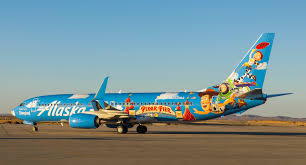maybay_dansu: (9, 41, 295, 135)
